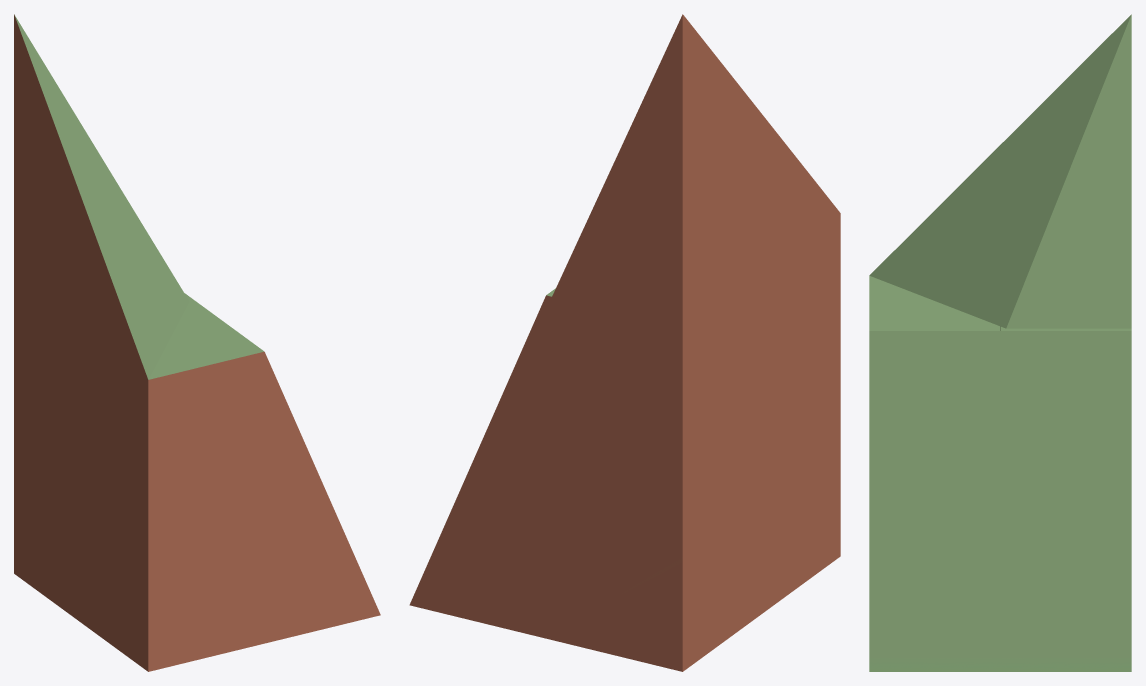
Rendered from Cenarios.fbx_Grounds_Inclinados.fbx.
3 renders of one model, left to right at view 1: azimuth 30°, elevation 25°; view 2: azimuth 150°, elevation 25°; view 3: azimuth 270°, elevation 25°, orthographic. The views are drawn at different scales.
Parts seen in each view (by area): view 1: Ground.Inclinado V2 12X, Ground.Inclinado V2 8X, Ground.Inclinado V3.1 12X, Ground.Inclinado V3.1 8X, Ground.Inclinado V4 8X, Ground.Inclinado V3.1 4X, Ground.Inclinado v6 4X, Ground.Inclinado V2 4X, Ground.Inclinado V1 4X, Ground.Inclinado V4 12X, Ground.Inclinado v4 4X, Ground.Inclinado V3 8X (+2 smaller); view 2: Ground.Inclinado V3.1 12X, Ground.Inclinado V2 12X, Ground.Inclinado V3.1 8X, Ground.Inclinado V4 12X, Ground.Inclinado V1.1 4X, Ground.Inclinado v6 4X, Ground.Inclinado V3.1 4X, Ground.Inclinado V2 8X, Ground.Inclinado V6 12X, Ground.Inclinado v3 4X, Ground.Inclinado V3 12X, Ground.Inclinado V1 4X (+7 smaller); view 3: Ground.Inclinado V2 12X, Ground.Inclinado V3.1 12X, Ground.Inclinado V6 12X, Ground.Inclinado V1 12X.
Boxes of the visible parts, x1,y1,x2,y2 form: Ground.Inclinado V2 12X: (14, 283, 380, 669); Ground.Inclinado V2 8X: (14, 379, 380, 670); Ground.Inclinado V3.1 12X: (14, 14, 379, 670); Ground.Inclinado V3.1 8X: (14, 184, 378, 670); Ground.Inclinado V4 8X: (14, 380, 261, 670); Ground.Inclinado V3.1 4X: (14, 379, 148, 670); Ground.Inclinado v6 4X: (15, 487, 147, 670); Ground.Inclinado V2 4X: (15, 477, 380, 671); Ground.Inclinado V1 4X: (14, 477, 146, 670); Ground.Inclinado V4 12X: (14, 282, 258, 669); Ground.Inclinado v4 4X: (14, 492, 263, 671); Ground.Inclinado V3 8X: (14, 392, 142, 662); Ground.Inclinado V3.1 12X: (412, 14, 840, 667); Ground.Inclinado V2 12X: (410, 213, 840, 667); Ground.Inclinado V3.1 8X: (410, 215, 840, 671); Ground.Inclinado V4 12X: (682, 214, 839, 665); Ground.Inclinado V1.1 4X: (412, 558, 682, 670); Ground.Inclinado v6 4X: (411, 514, 839, 670); Ground.Inclinado V3.1 4X: (412, 444, 840, 671); Ground.Inclinado V2 8X: (411, 334, 840, 669); Ground.Inclinado V6 12X: (410, 289, 839, 659); Ground.Inclinado v3 4X: (547, 557, 833, 671); Ground.Inclinado V3 12X: (594, 346, 816, 667); Ground.Inclinado V1 4X: (410, 535, 839, 671); Ground.Inclinado V2 12X: (869, 276, 1131, 671); Ground.Inclinado V3.1 12X: (869, 14, 1131, 328); Ground.Inclinado V6 12X: (870, 326, 1131, 671); Ground.Inclinado V1 12X: (870, 332, 1131, 671).
Size of the model in its own units: 1000 by 2300 by 1000.
